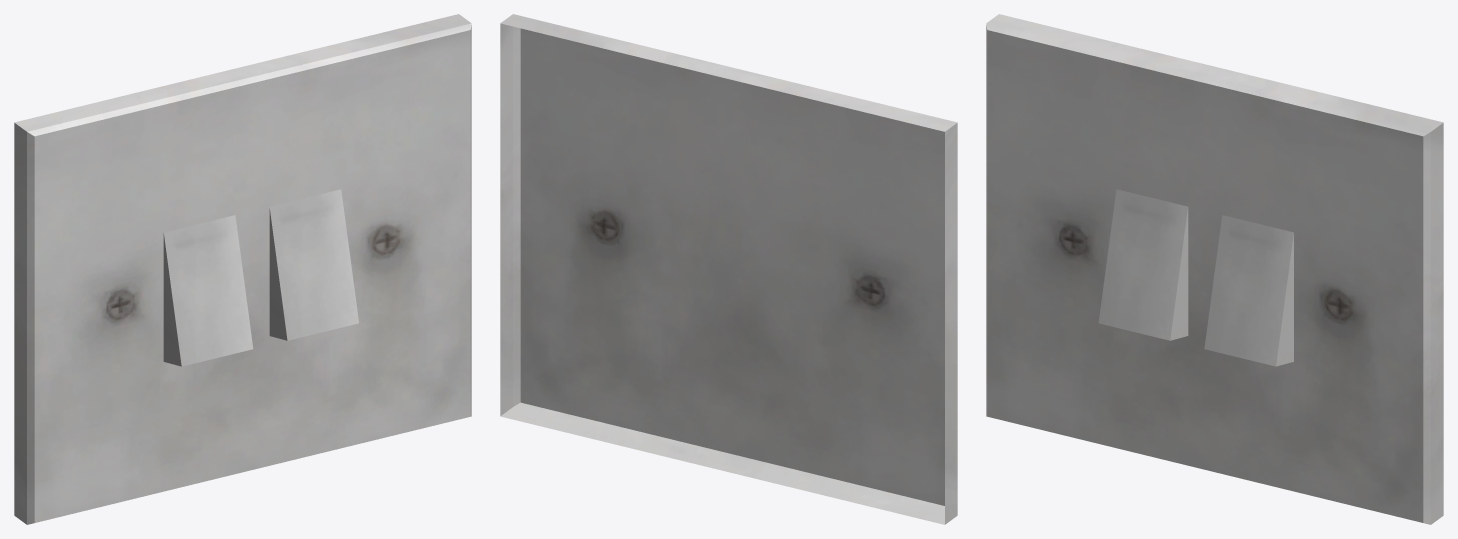
File: lightSwitch02.FBX
3 views of the same model, side by side, from view 1: azimuth 30°, elevation 25°; view 2: azimuth 150°, elevation 25°; view 3: azimuth 330°, elevation 25° (orthographic).
Parts seen in each view (by area): view 1: SM_LightSwitch02; view 2: SM_LightSwitch02; view 3: SM_LightSwitch02.
Boxes of the visible parts, left/top/right/bottom form: SM_LightSwitch02: left=14, top=14, right=471, bottom=524; SM_LightSwitch02: left=500, top=14, right=957, bottom=524; SM_LightSwitch02: left=986, top=14, right=1443, bottom=524.
Size of the model in its own units: 12.93 by 10.93 by 1.71.
Materials: 1 (1 with a texture image).
